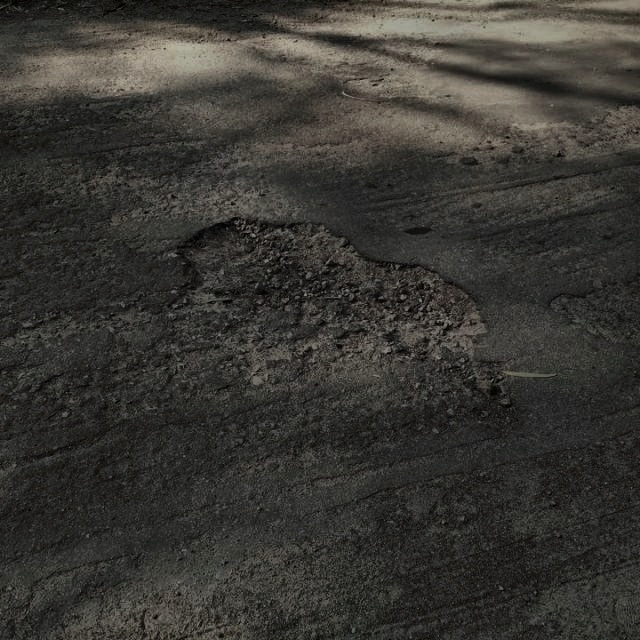Pothole: (168, 212, 492, 358)
